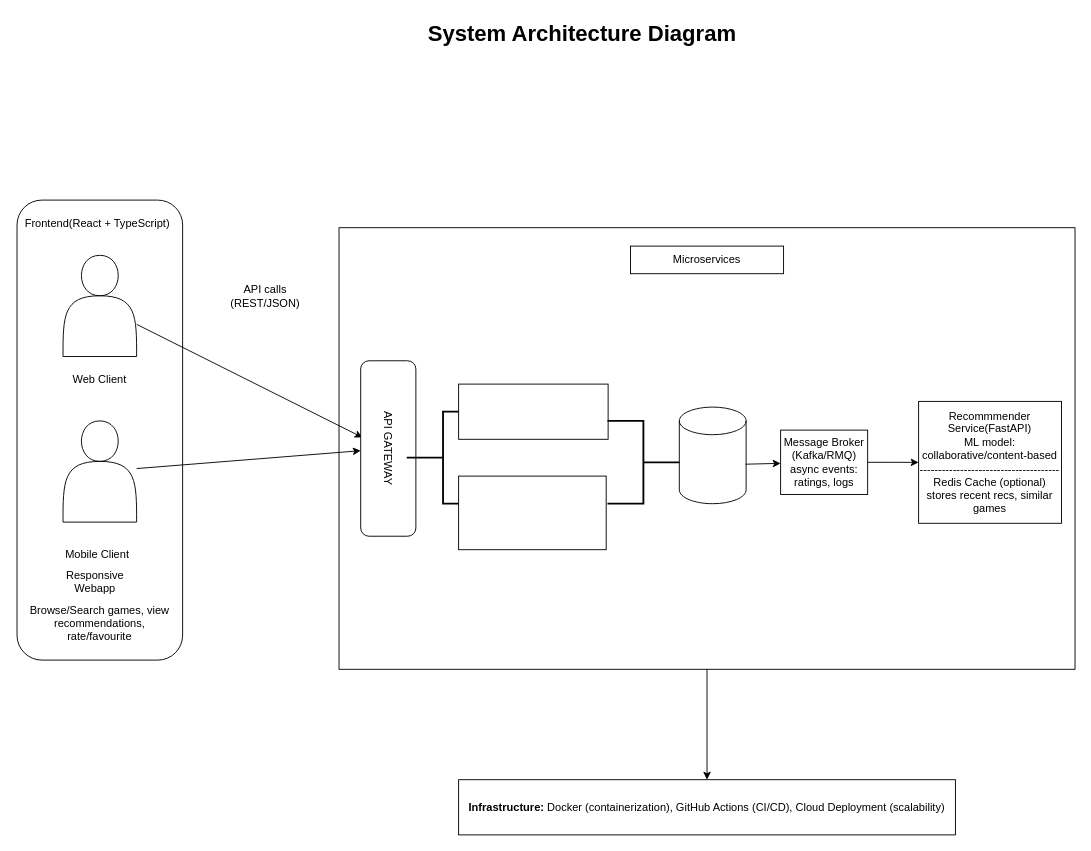
Image size: 1091x851. Some labels were removed from this diagram. The centre of each missing label's shape, as x and y in pixels:
"Game Service Game MetaData, Search" goes at [533,411].
"PostgreSQL DataBase" goes at [712,455].
"User Service Authentication, Ratings, Questionaire" goes at [532,512].
